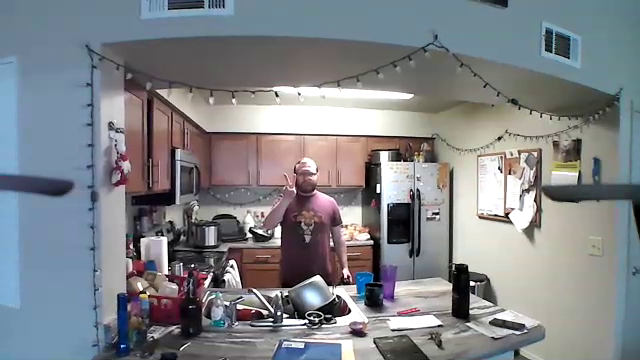peace: (278, 170, 301, 206)
